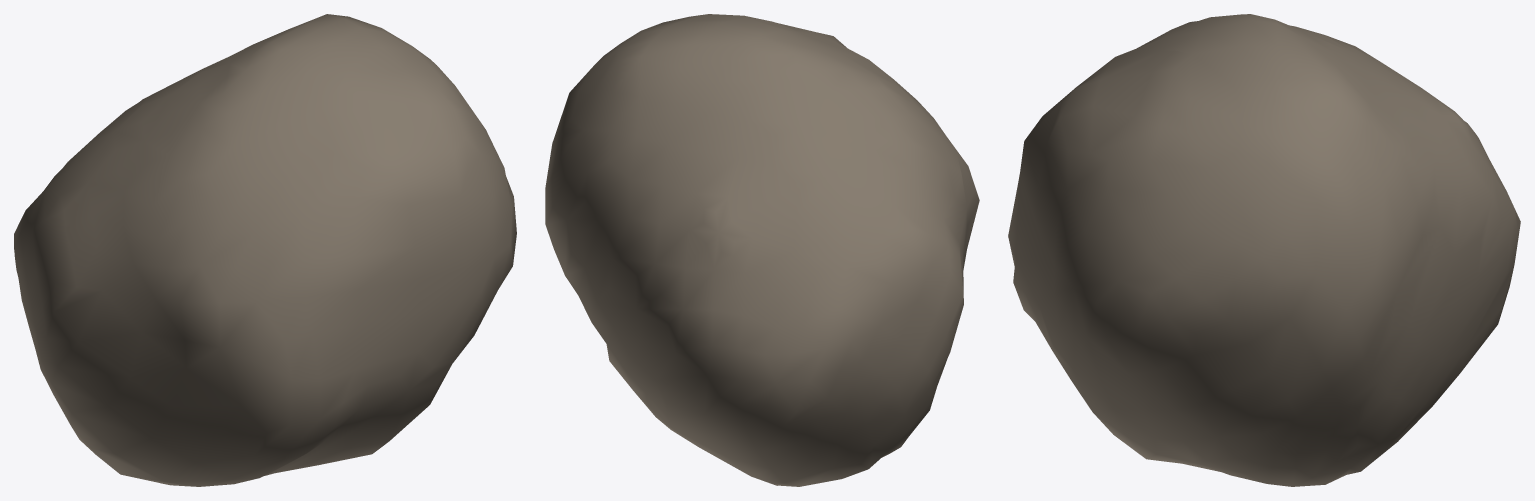
The model's file is 1RockLowPoly.fbx.
The picture shows the model from 3 angles, left to right: view 1: azimuth 30°, elevation 25°; view 2: azimuth 150°, elevation 25°; view 3: azimuth 270°, elevation 25°; orthographic projection. The views are drawn at different scales.
Parts seen in each view (by area): view 1: Cube.004; view 2: Cube.004; view 3: Cube.004.
Boxes of the visible parts, x1=… form: Cube.004: x1=14, y1=14, x2=516, y2=486; Cube.004: x1=545, y1=14, x2=979, y2=486; Cube.004: x1=1008, y1=14, x2=1520, y2=486.
Size of the model in its own units: 300 by 288 by 289.
